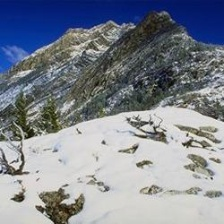neutral: (2, 4, 224, 212)
